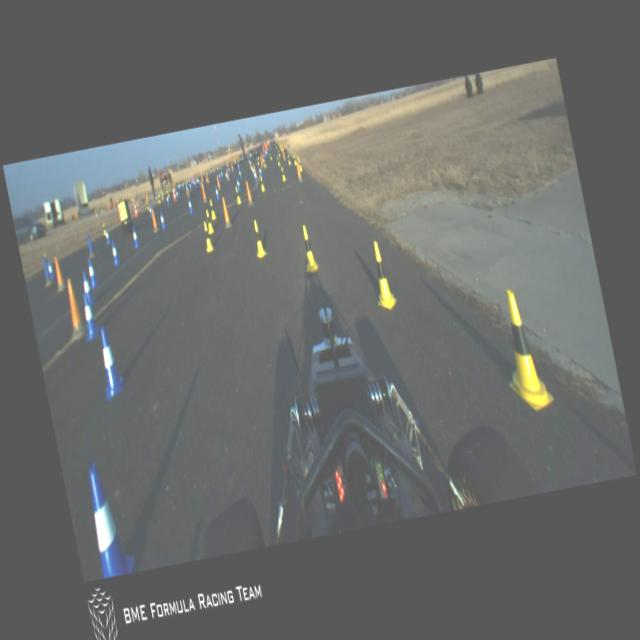blue_cone: (82, 460, 136, 578), (92, 326, 128, 402), (77, 291, 101, 340), (82, 270, 95, 304), (86, 257, 99, 289), (109, 241, 121, 266), (130, 226, 140, 250), (46, 260, 56, 282), (186, 196, 194, 214), (160, 212, 167, 230), (105, 229, 112, 245), (214, 186, 220, 201), (236, 177, 241, 191), (253, 171, 258, 182), (258, 167, 262, 177)
large_orange_cone: (132, 200, 138, 217), (171, 185, 177, 202), (136, 200, 142, 216), (173, 185, 178, 200)
unknown_cone: (491, 284, 556, 414), (63, 278, 85, 338), (52, 256, 64, 290), (220, 196, 232, 228), (150, 208, 159, 232), (245, 179, 253, 205), (295, 160, 303, 182), (200, 183, 208, 204)
yellow_cone: (366, 238, 399, 311), (298, 223, 320, 272), (250, 219, 267, 256), (201, 220, 214, 252), (203, 208, 214, 234), (208, 198, 218, 220), (234, 186, 242, 204), (258, 174, 266, 192), (280, 166, 287, 182), (298, 158, 304, 172), (101, 222, 107, 235), (287, 154, 292, 166), (293, 154, 297, 167), (276, 158, 280, 166), (263, 160, 267, 168)
